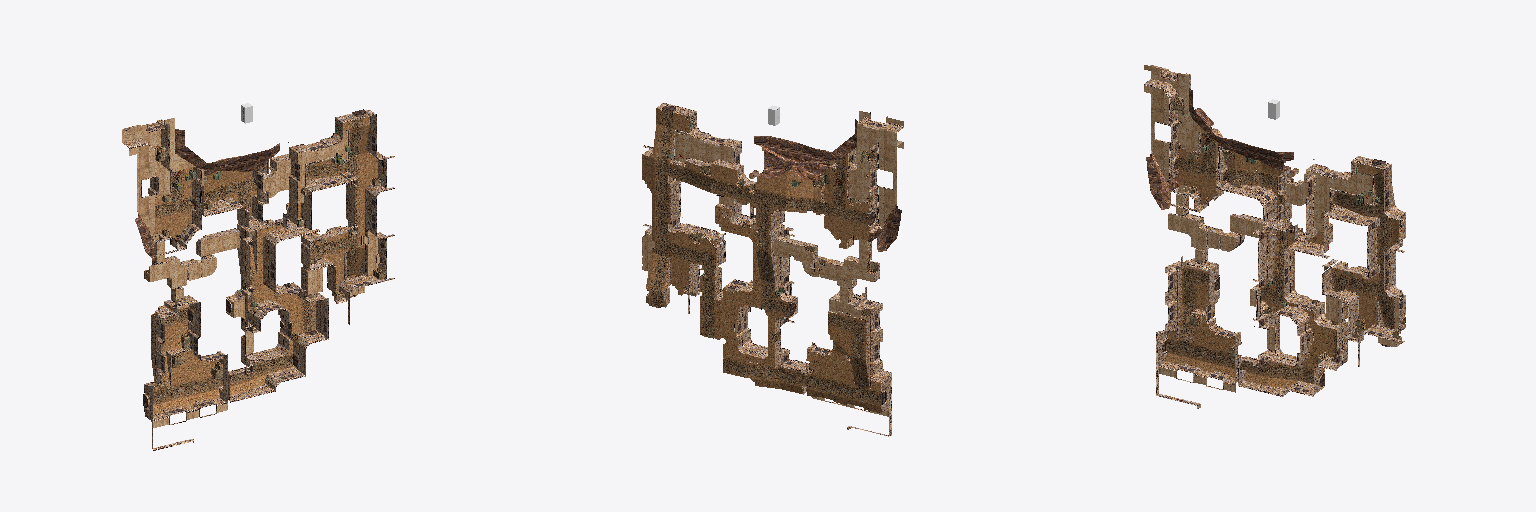
3 renders of one model, left to right at view 1: azimuth 30°, elevation 25°; view 2: azimuth 150°, elevation 25°; view 3: azimuth 330°, elevation 25°, orthographic.
Bounding box in the file's own units: 4480 × 5312 × 608.
34 materials, 32 textured.